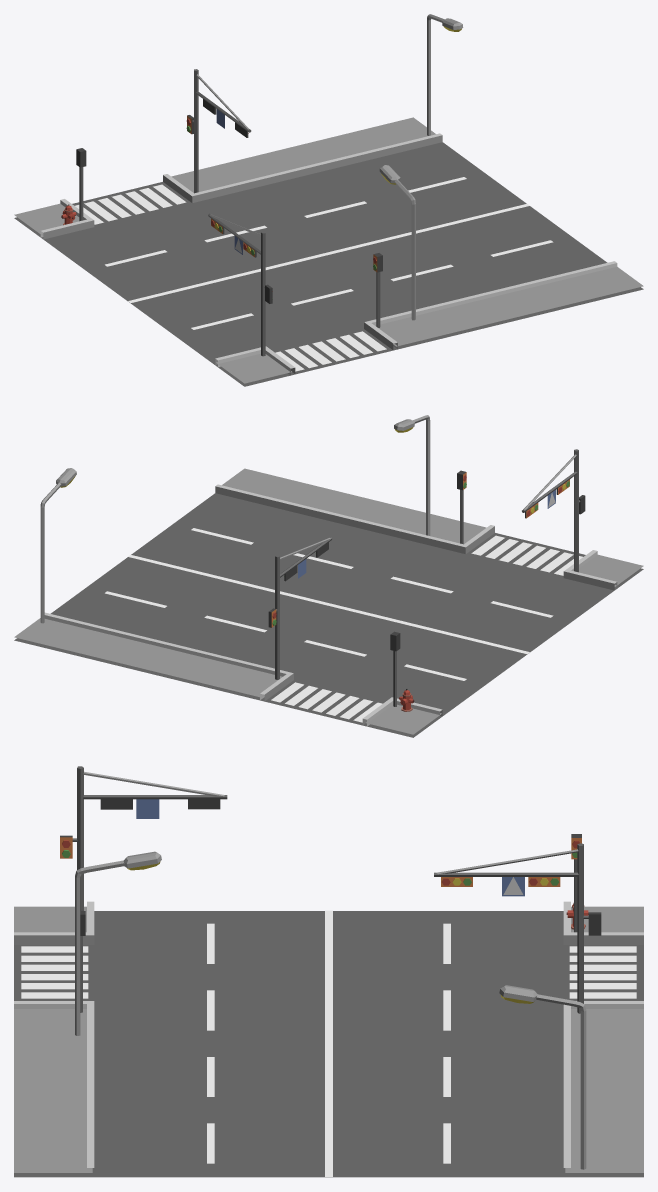
Rendered from road_tile_2x2_008.glb.
3 views of the same model, one above another, from view 1: azimuth 30°, elevation 25°; view 2: azimuth 150°, elevation 25°; view 3: azimuth 270°, elevation 25° (orthographic). The views are drawn at different scales.
Parts seen in each view (by area): view 1: road_tile_2x2_008; view 2: road_tile_2x2_008; view 3: road_tile_2x2_008.
Boxes of the visible parts, x1,y1,x2,y2 form: road_tile_2x2_008: (14, 14, 643, 386); road_tile_2x2_008: (14, 415, 643, 737); road_tile_2x2_008: (14, 766, 643, 1177).
Size of the model in its own units: 16 by 5.25 by 16.
1 material, 1 textured.
